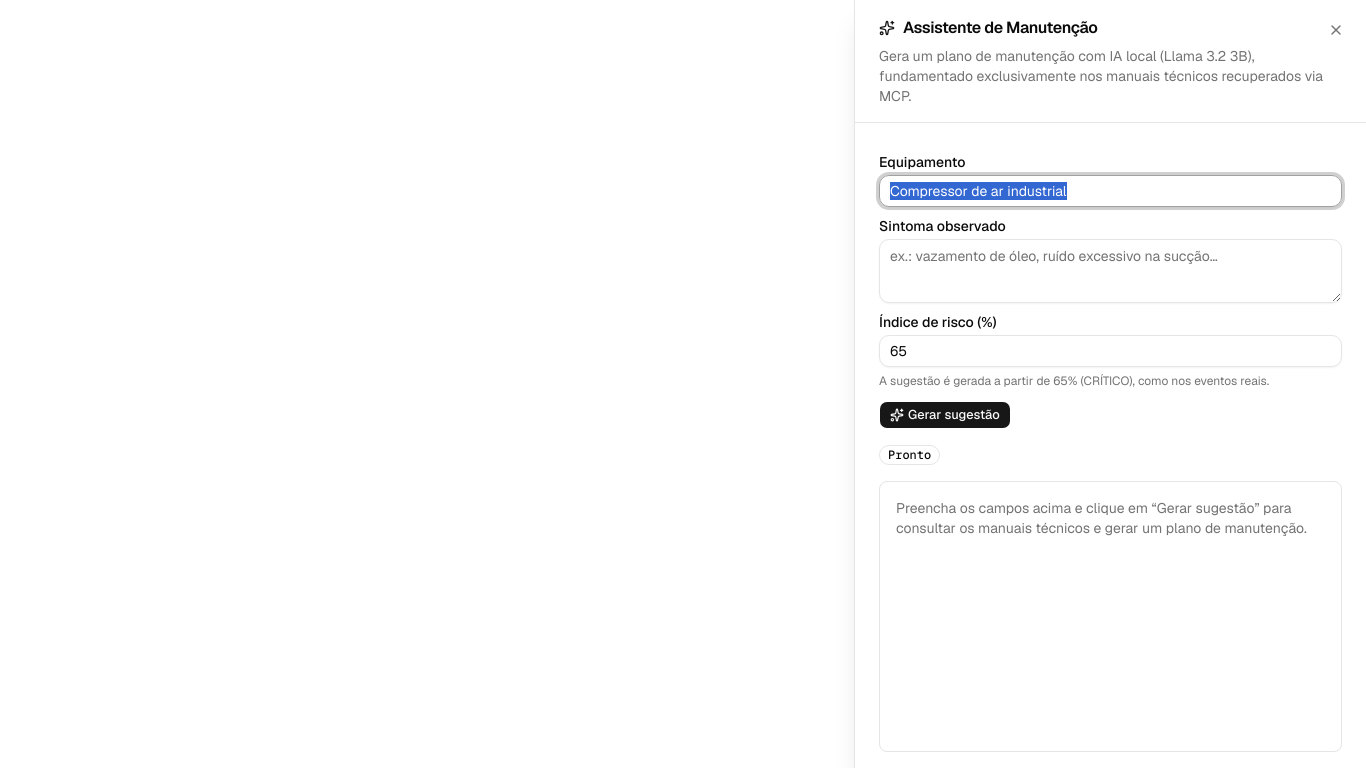
MaintenanceAssistant › H) mostra uma mensagem de erro clara quando o serviço reporta uma falha
This screenshot has width=1366, height=768.
Click the button "Gerar sugestão" at (945, 415), box [879,401,1011,429]
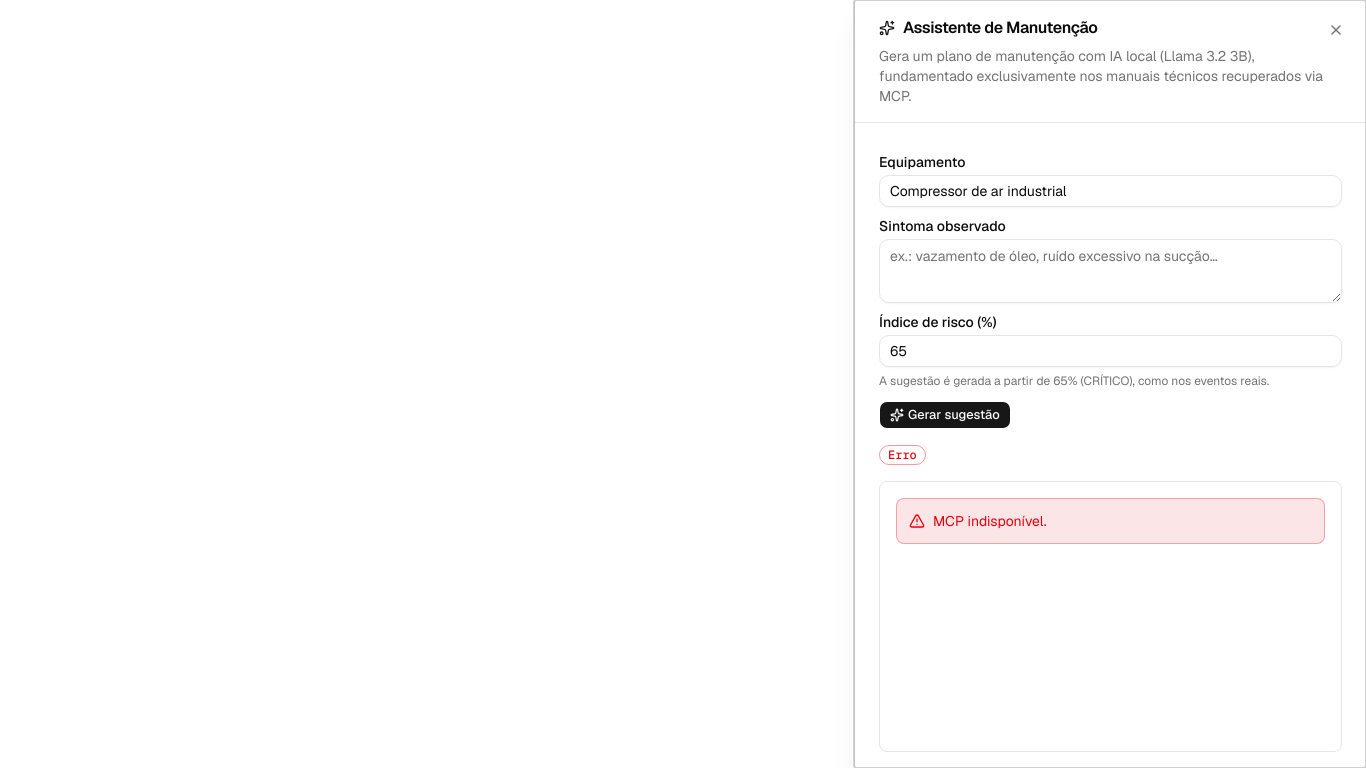
Expected: the text "MCP indisponível." is shown, [933,511,1047,531]
Expected: the icon "Erro" is shown, [879,445,926,465]
